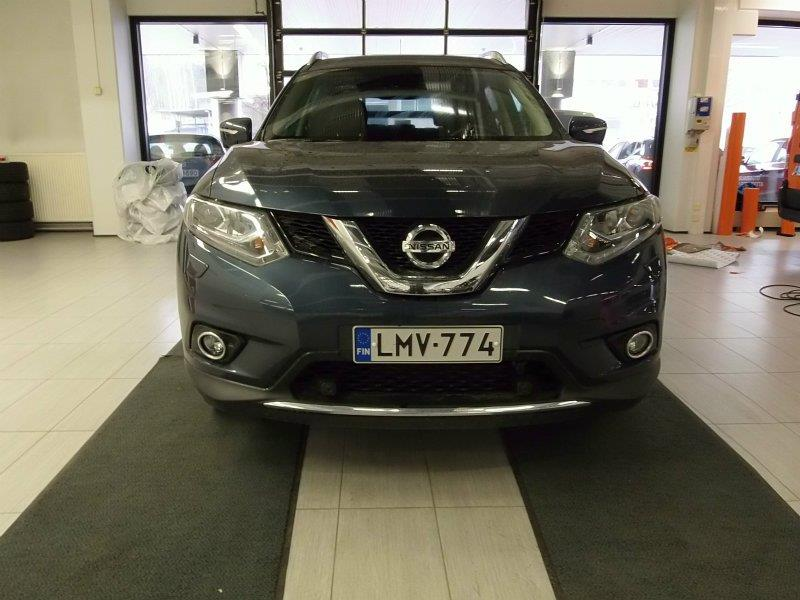license: (352, 324, 505, 367)
